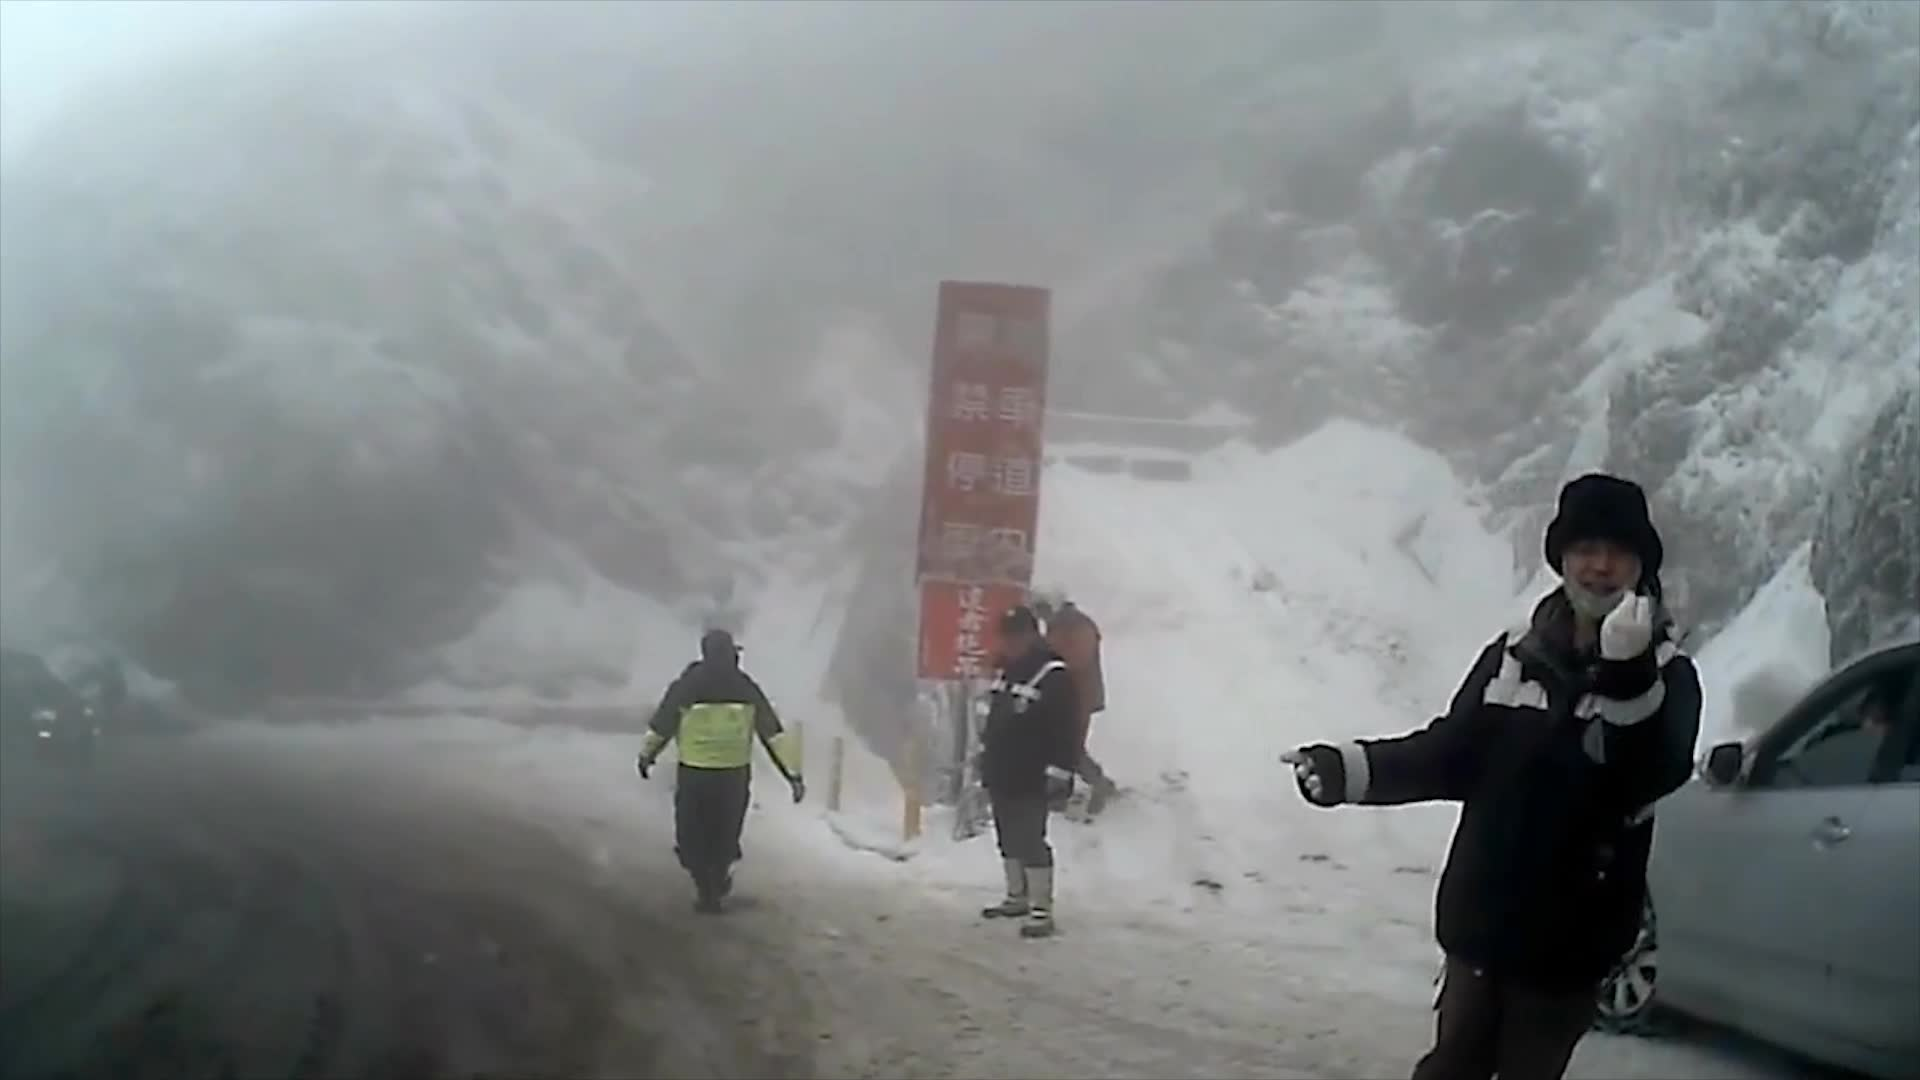pedestrian: (1280, 472, 1699, 1078), (642, 634, 797, 908), (983, 603, 1090, 935), (1029, 575, 1123, 815)
vehicle: (1530, 636, 1919, 1079)
